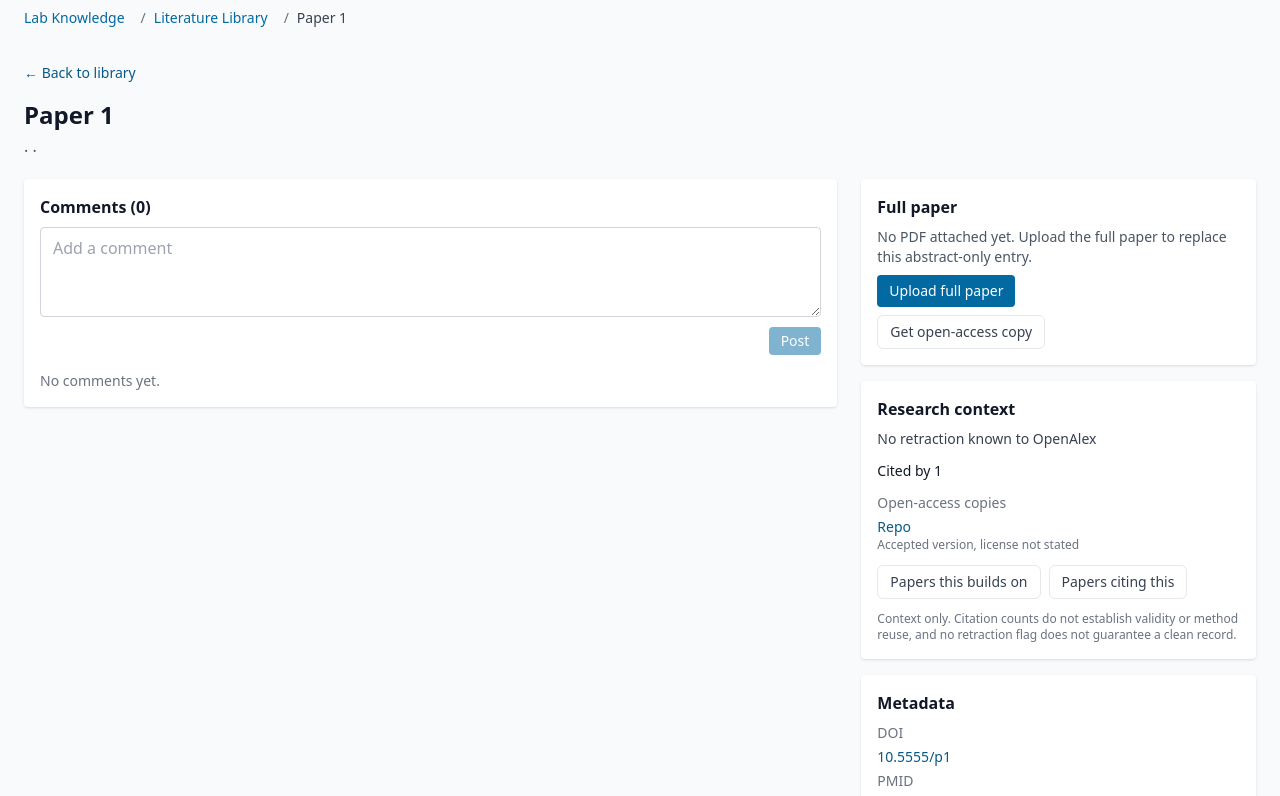
parsing at capacity says to try again shortly
This screenshot has width=1280, height=796.
Click the button "Get open-access copy" at (961, 332), box [877, 315, 1045, 349]
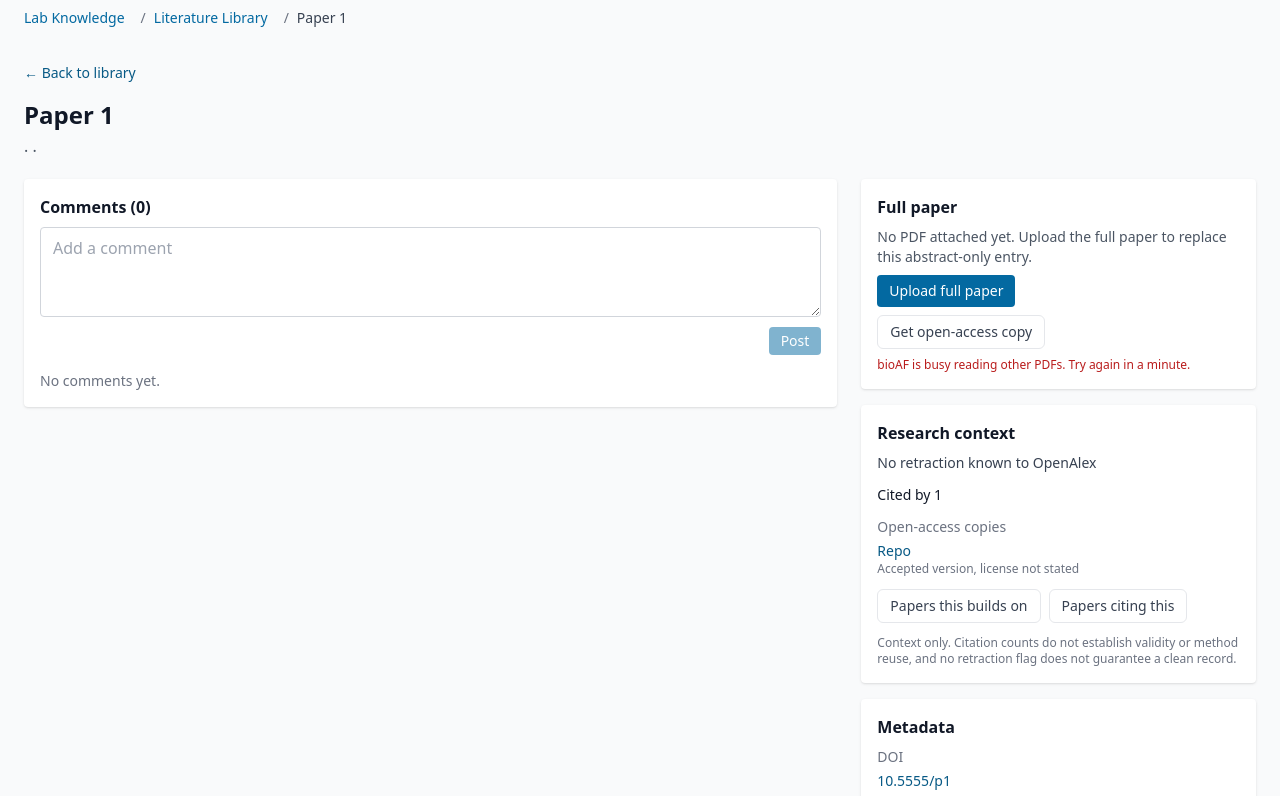
Check: the text "bioAF is busy reading other PDFs. Try again in a minute." is shown, box [877, 357, 1240, 373]
